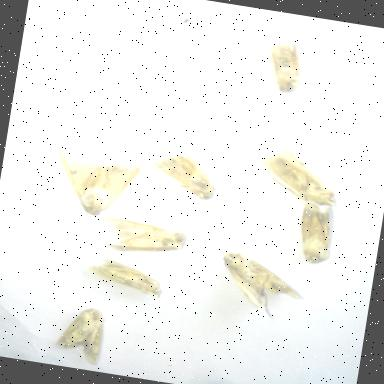abw: (41, 138, 150, 225), (205, 244, 314, 328), (244, 134, 350, 212), (138, 130, 228, 207), (92, 211, 195, 264), (46, 296, 114, 370), (284, 196, 348, 270), (82, 252, 170, 301), (257, 28, 313, 99)
